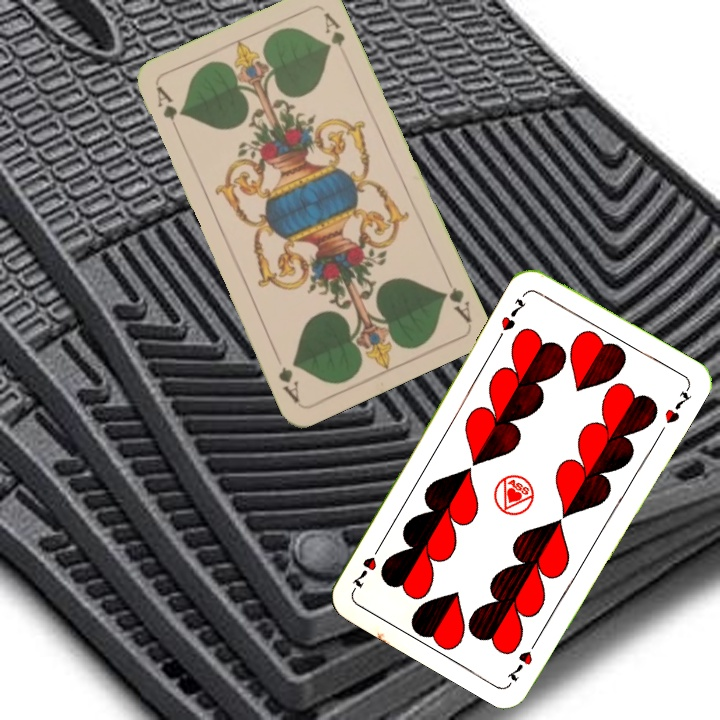GA: (437, 270, 474, 325), (152, 82, 181, 139)
H7: (503, 632, 542, 686), (497, 294, 529, 334)
